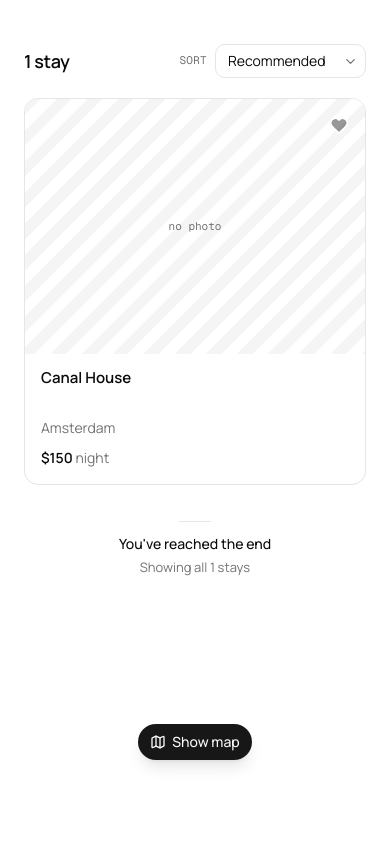
it: mobile map list sheet › opens and closes from the handle in one tap each
What coordinates should you click on to do the following:
click the button "Show map"
I would click on:
 (195, 742)
Its box is [138, 724, 252, 760].
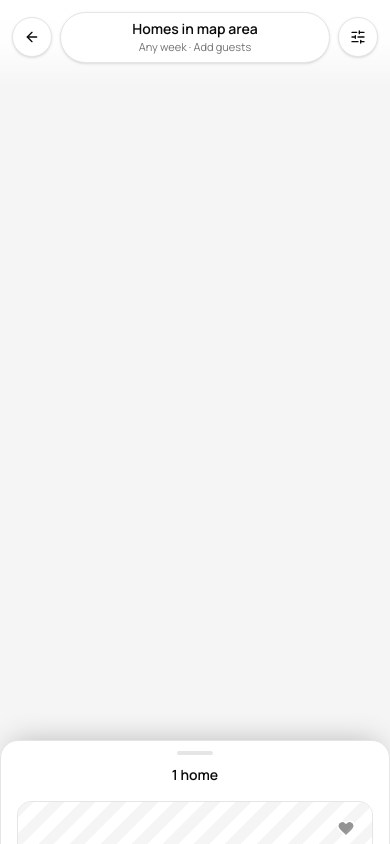
What coordinates should you click on to do the following:
click the button with aria-label "Expand list"
I would click on:
 (195, 769)
Its box is [1, 741, 389, 797].
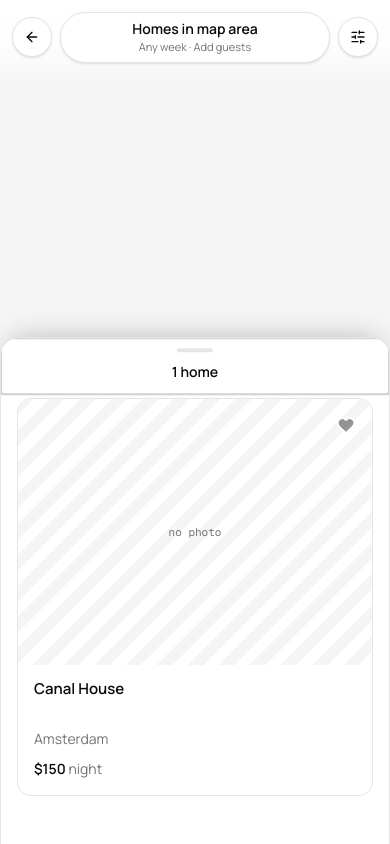
expect the button with aria-label "Collapse list" is expanded: met
What coordinates should you click on to do the following:
click the button with aria-label "Collapse list"
I would click on:
 (195, 367)
Its box is [1, 339, 389, 395].
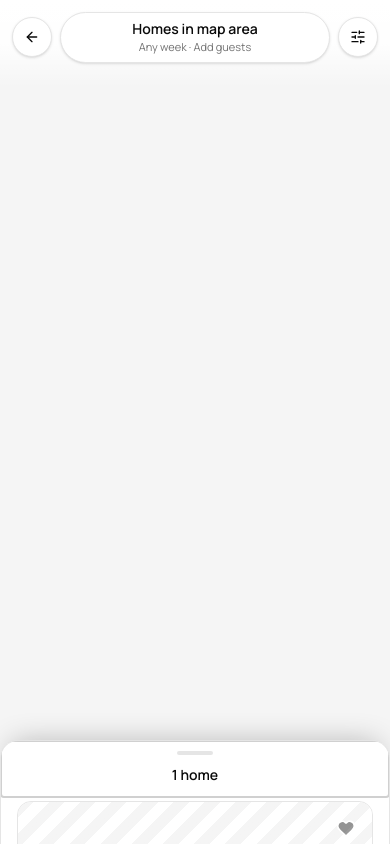
expect the button with aria-label "Expand list" is collapsed: met, box [1, 741, 389, 797]
